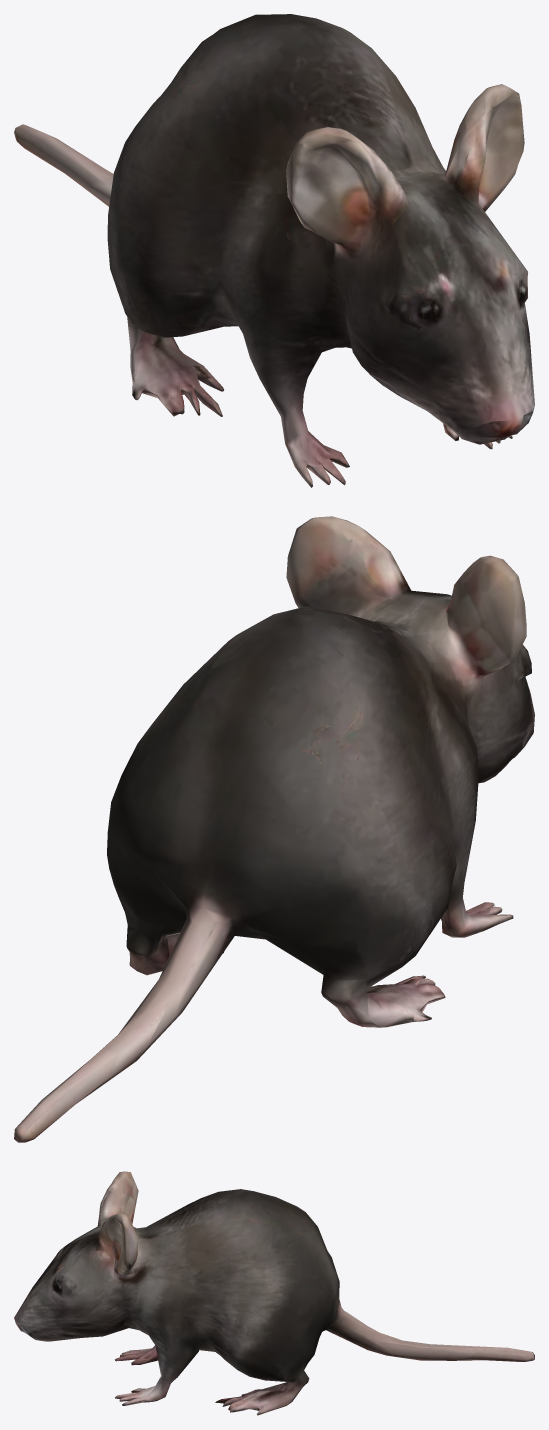
The model's file is rat.glb.
3 views of the same model, one above another, from view 1: azimuth 30°, elevation 25°; view 2: azimuth 150°, elevation 25°; view 3: azimuth 270°, elevation 25° (orthographic). The views are drawn at different scales.
Size of the model in its own units: 0.7195 by 0.7944 by 2.
1 material, 1 textured.
